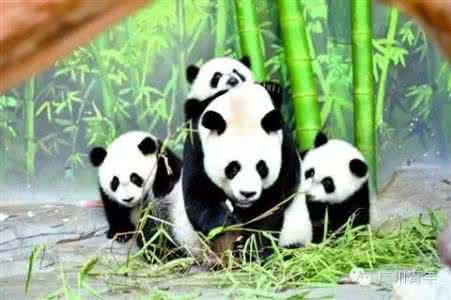panda: (185, 81, 306, 262), (89, 127, 186, 243), (302, 119, 380, 249), (182, 55, 259, 118)
